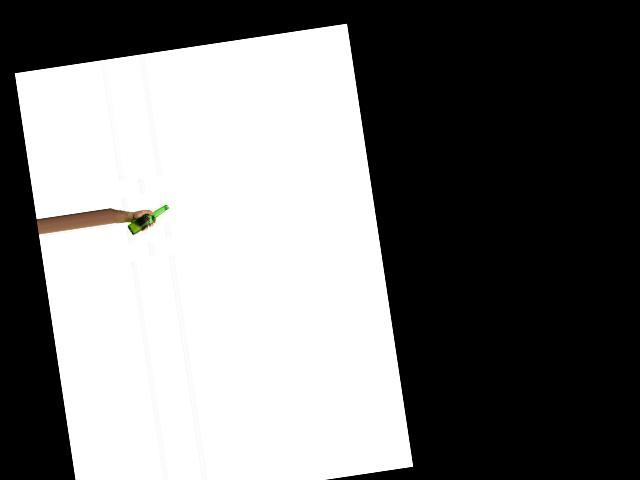beer: (125, 204, 171, 235)
